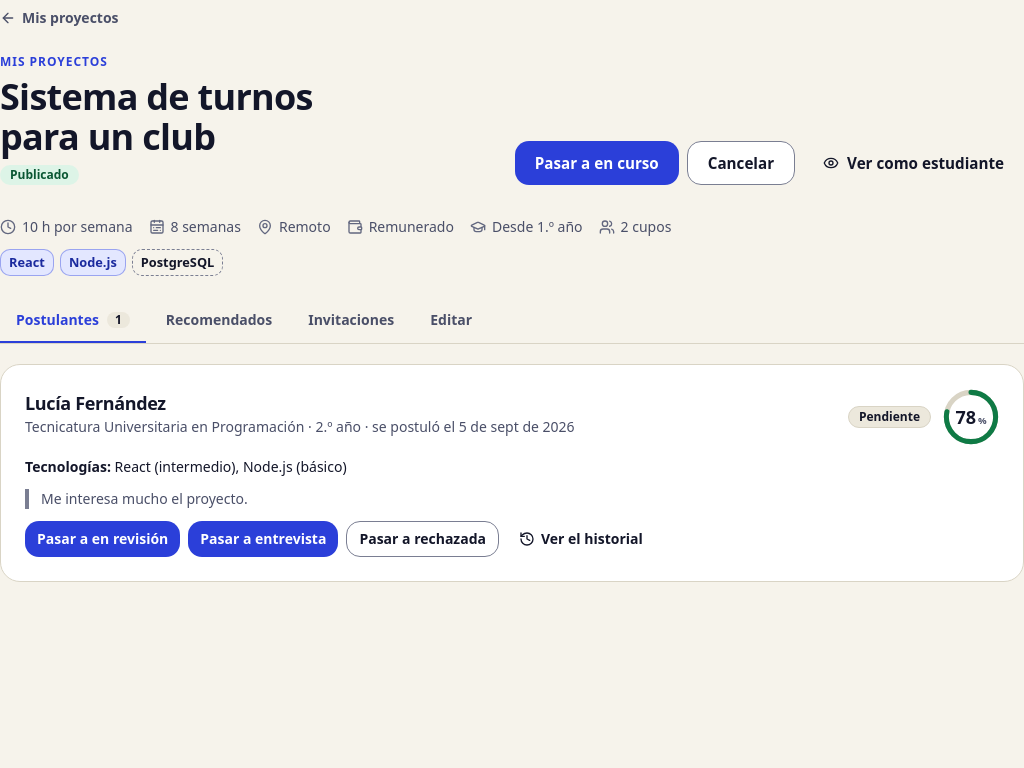
GestionProyectoPage › un proyecto publicado se puede pasar a en curso o cancelar; al confirmar se vuelve a pedir
Expected: the heading "Lucía Fernández" is shown, [25,391,166,415]
Expected: the button "Cancelar" is shown, [687,141,795,185]
Step 1. Click the button "Pasar a en curso" → click(597, 163), box [515,141,679,185]
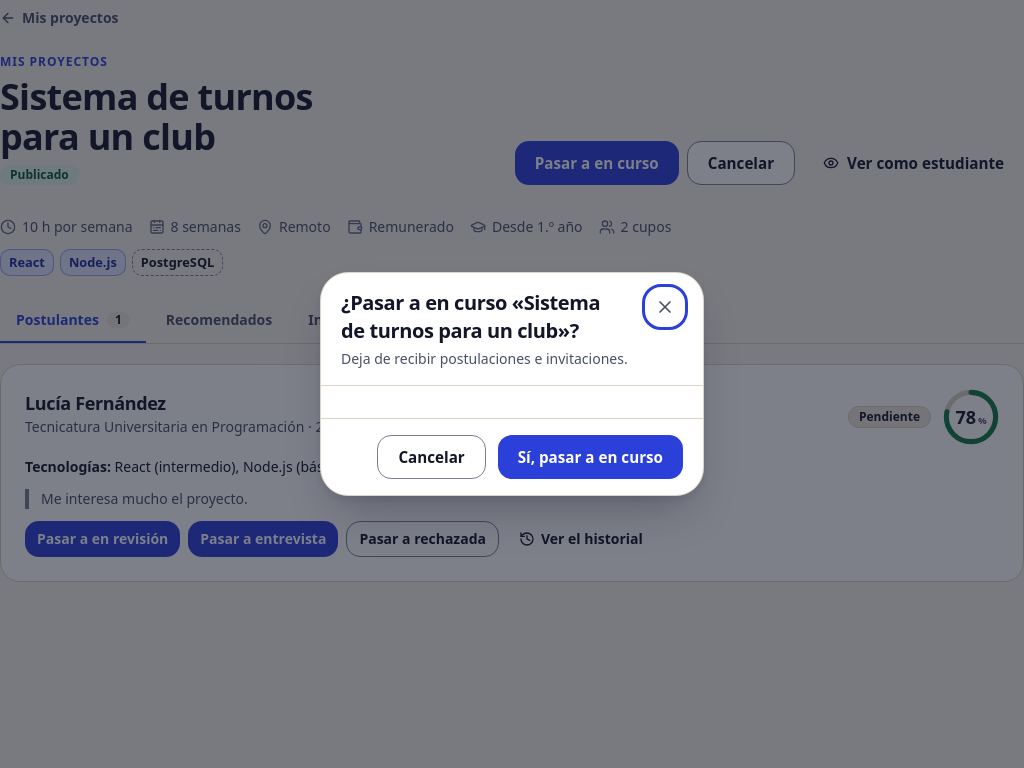
Step 2. Click the button "Sí, pasar a en curso" → click(590, 457), box [498,435,683,479]
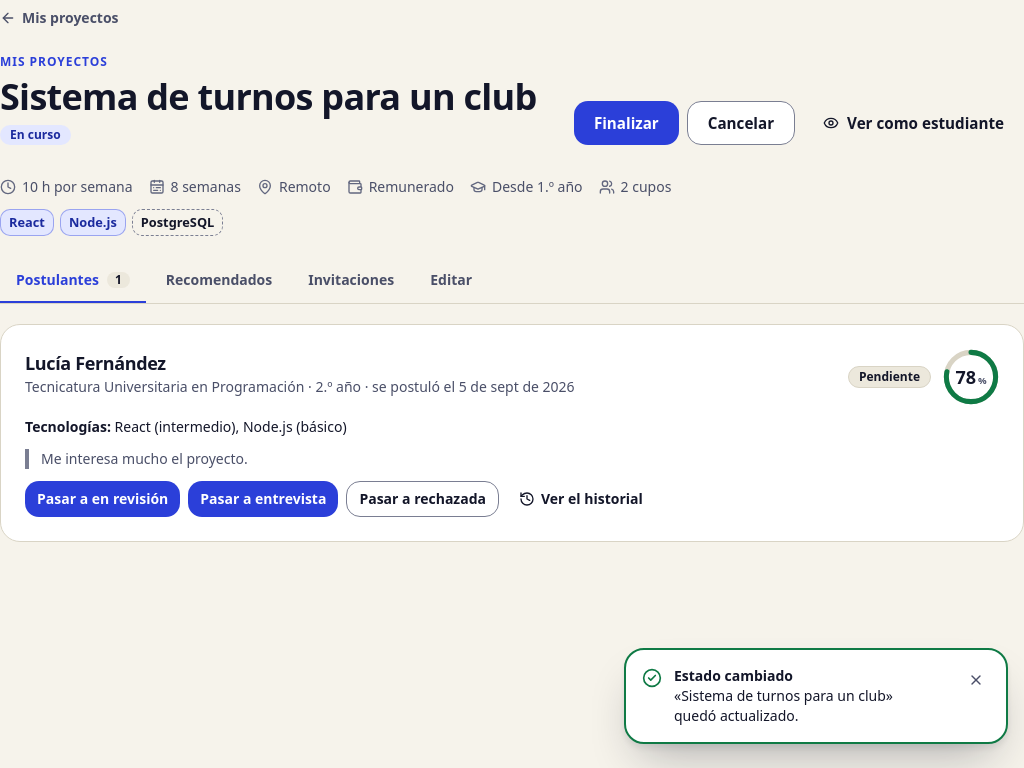
Expected: the button "Finalizar" is shown, [574,101,679,145]
